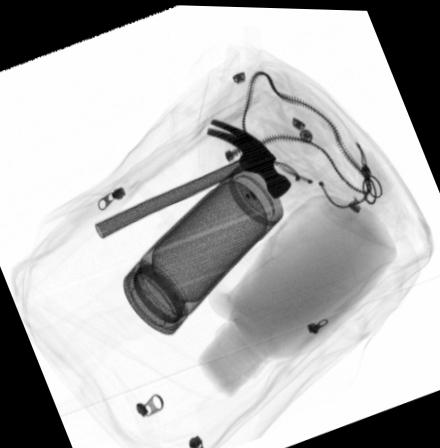Hammer: (93, 115, 291, 240)
